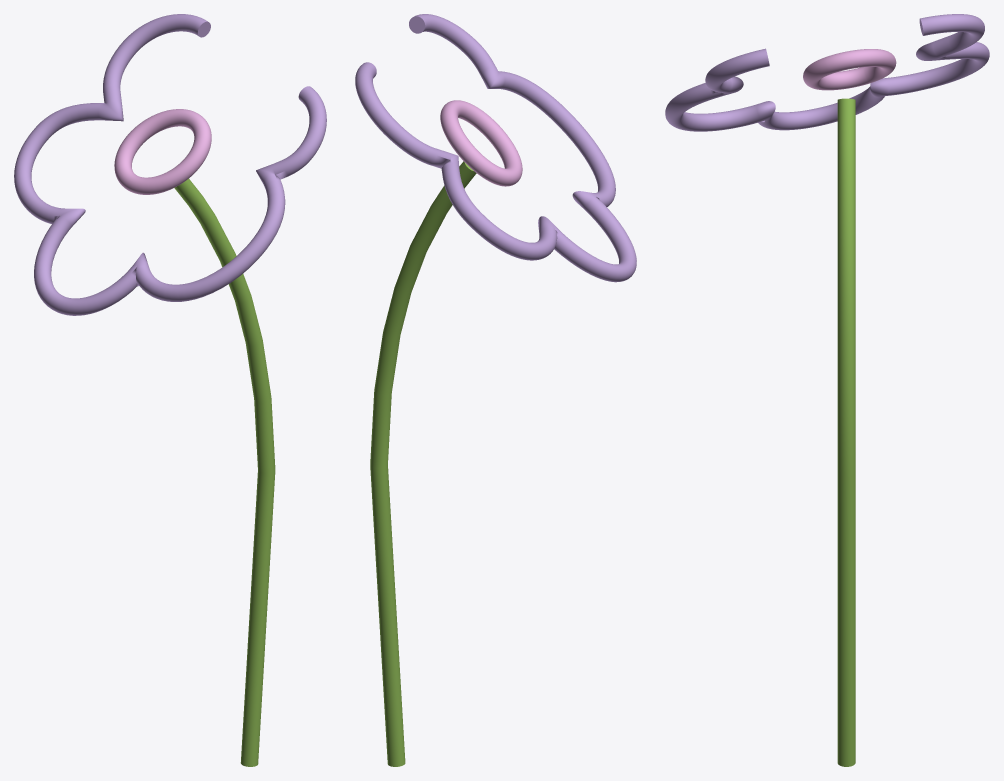
3 views of the same model, side by side, from view 1: azimuth 30°, elevation 25°; view 2: azimuth 150°, elevation 25°; view 3: azimuth 270°, elevation 25° (orthographic). The views are drawn at different scales.
Parts seen in each view (by area): view 1: Deckfläche_1, Sweep_1, Sweep; view 2: Deckfläche_1, Sweep_1, Sweep; view 3: Sweep_1, Deckfläche_1, Sweep.
Part boxes in pixels (box(x1,y1,x2,y2)): Deckfläche_1: box(14, 14, 326, 315); Sweep_1: box(174, 178, 275, 766); Sweep: box(114, 109, 211, 194); Deckfläche_1: box(355, 14, 636, 282); Sweep_1: box(370, 161, 476, 766); Sweep: box(440, 100, 522, 186); Sweep_1: box(837, 98, 855, 766); Deckfläche_1: box(665, 14, 989, 131); Sweep: box(803, 49, 896, 90).
Size of the model in its own units: 1.61 by 4.55 by 1.81.
